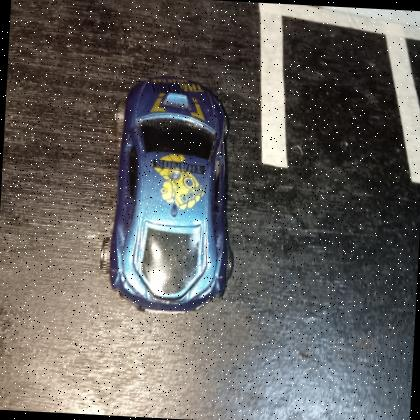Car: (97, 71, 246, 321)
